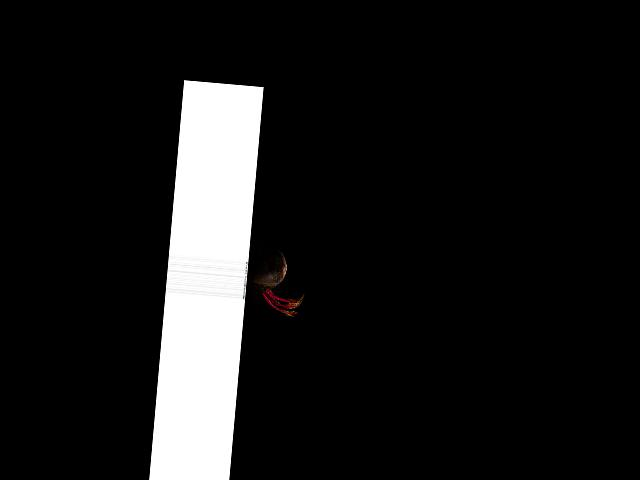beet: (244, 233, 308, 317)
